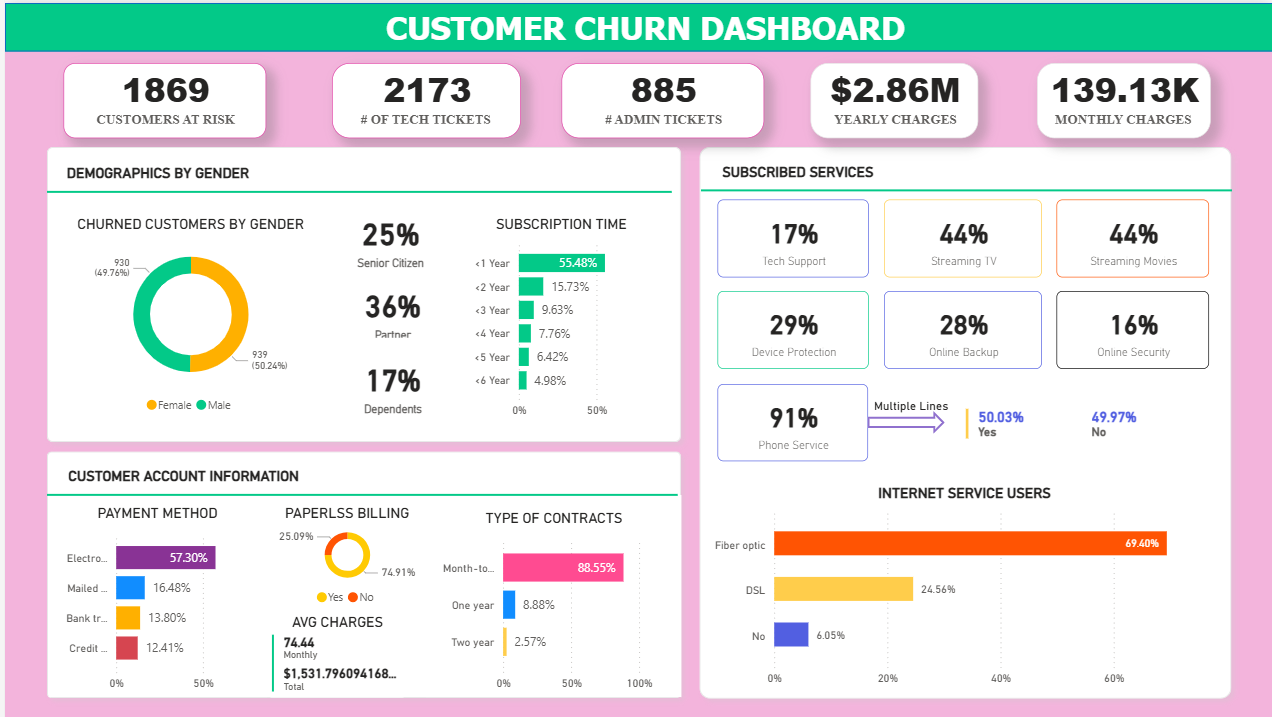

The dashboard page shown, as its layout file describes it:
{"tool":"powerbi","page":{"name":"Churn Dashboard","canvas":[1280,720],"ordinal":0},"visuals":[{"type":"shape","box":[0,0,1280,49],"z":0},{"type":"shape","box":[34,136,658,316],"z":0,"group":"g1"},{"type":"card","fields":{"Values":["Churn.% Tech Support"]},"box":[720,199,152.4,78.4],"z":0,"group":"g4"},{"type":"shape","box":[692,136,555,575],"z":1000},{"type":"card","fields":{"Values":["Churn.% Streaming TV"]},"box":[887.4,199,159.5,78.4],"z":1000,"group":"g4"},{"type":"donutChart","title":"CHURNED CUSTOMERS BY GENDER","fields":{"Category":["01 Churn-Dataset.gender"],"Y":["CountNonNull(01 Churn-Dataset.gender)"]},"box":[61.1,204.4,252.2,223.4],"z":1000,"group":"g1"},{"type":"shape","box":[702,123,536,133],"z":1500,"group":"g3"},{"type":"shape","box":[42,430,636.8,133],"z":1500,"group":"g2"},{"type":"textbox","box":[33.3,0,1226.5,48.5],"z":2000},{"type":"textbox","box":[703.8,145,522.6,38],"z":2000,"group":"g3"},{"type":"textbox","box":[42.7,146.1,630.9,47.3],"z":2000,"group":"g1"},{"type":"card","fields":{"Values":["Churn.% Streaming Movies"]},"box":[1062.8,199,154.2,78.4],"z":2000,"group":"g4"},{"type":"textbox","box":[44.2,452,636.8,38],"z":2000,"group":"g2"},{"type":"card","fields":{"Values":["Churn.% of Senior Citizen"]},"box":[330.5,204.4,118,77.5],"z":3000,"group":"g1"},{"type":"card","fields":{"Values":["Churn.% Device Protection"]},"box":[720,291.6,152.4,78.4],"z":3000,"group":"g4"},{"type":"shape","box":[34,444,658,267],"z":3000},{"type":"card","fields":{"Values":["CountNonNull(01 Churn-Dataset.customerID)"]},"box":[59.1,60.6,204.4,75.7],"z":4000},{"type":"card","fields":{"Values":["Churn.% of partner"]},"box":[329.5,278.9,125.5,74.5],"z":4000,"group":"g1"},{"type":"card","fields":{"Values":["Churn.% Online Backup"]},"box":[887.4,291.6,159.5,78.4],"z":4000,"group":"g4"},{"type":"shape","box":[42.7,151.1,630.9,78.5],"z":5000,"group":"g1"},{"type":"card","fields":{"Values":["Churn.% Online Sec"]},"box":[1062.8,291.6,154.2,78.4],"z":5000,"group":"g4"},{"type":"card","fields":{"Values":["Churn.% Phone Service"]},"box":[720,385,152,78],"z":5000},{"type":"card","fields":{"Values":["Sum(01 Churn-Dataset.numTechTickets)"]},"box":[330.1,60.6,190.8,75.7],"z":6000},{"type":"card","fields":{"Values":["Churn.% of Dependents"]},"box":[329.5,351.4,125.5,79.5],"z":6000,"group":"g1"},{"type":"clusteredBarChart","title":"SUBSCRIPTION TIME","fields":{"Y":["CountNonNull(Churn.Churn)"],"Category":["Churn.Tenure(in years)"]},"box":[466.9,204.4,190.5,220.4],"z":7000,"group":"g1"},{"type":"clusteredBarChart","title":"PAYMENT METHOD","fields":{"Y":["CountNonNull(Churn.PaymentMethod)"],"Category":["Churn.PaymentMethod"]},"box":[44,497,220,204],"z":7000},{"type":"card","fields":{"Values":["Sum(01 Churn-Dataset.TotalCharges)"]},"box":[813.1,60.6,169.6,75.7],"z":8000},{"type":"card","fields":{"Values":["Sum(01 Churn-Dataset.numAdminTickets)"]},"box":[561.8,60.6,204.4,75.7],"z":9000},{"type":"group","id":"g1","title":"Group 1","box":[34,136,658,316],"z":10000},{"type":"card","fields":{"Values":["Sum(01 Churn-Dataset.MonthlyCharges)"]},"box":[1041.8,60.6,175.6,75.7],"z":11000},{"type":"donutChart","title":"PAPERLSS BILLING","fields":{"Category":["Churn.PaperlessBilling"],"Y":["CountNonNull(Churn.PaperlessBilling)"]},"box":[248,497,194,126],"z":12000},{"type":"multiRowCard","title":"AVG CHARGES","fields":{"Values":["Avg(Churn.MonthlyCharges)","Avg(Churn.TotalCharges)"]},"box":[264,606,143,95],"z":13000},{"type":"clusteredBarChart","title":"TYPE OF CONTRACTS","fields":{"Category":["Churn.Contract"],"Y":["CountNonNull(Churn.Contract)"]},"box":[426,497,257,204],"z":14000},{"type":"group","id":"g2","title":"Group 2","box":[42,430,639,133],"z":15000},{"type":"group","id":"g3","title":"Group 2","box":[702,123,536,133],"z":16000},{"type":"group","id":"g4","title":"Group 3","box":[720,199,497,171],"z":17000},{"type":"shape","box":[871,412,78,23],"z":18000},{"type":"textbox","box":[872,391,300,30],"z":19000},{"type":"multiRowCard","fields":{"Values":["Churn.% Yes-Multiple Lines","Churn.% No-Multiple Lines"]},"box":[965,404,252,53],"z":20000},{"type":"barChart","title":"INTERNET SERVICE USERS","fields":{"Y":["CountNonNull(Churn.InternetService)"],"Category":["Churn.InternetService"]},"box":[710,471,517,230],"z":21000}]}

Visuals, with their boxes in screenshot pixels (x1, y1, x2, y2), scaled from the page's 1280x720 canvas onto the 1272x717 screenshot:
shape: 0,0,1271,49
shape: 34,135,688,450
card - Churn.% Tech Support: 716,198,867,276
shape: 688,135,1239,708
card - Churn.% Streaming TV: 882,198,1040,276
"CHURNED CUSTOMERS BY GENDER" donutChart: 61,204,311,426
shape: 698,122,1230,255
shape: 42,428,675,561
textbox: 33,0,1252,48
textbox: 699,144,1219,182
textbox: 42,145,669,193
card - Churn.% Streaming Movies: 1056,198,1209,276
textbox: 44,450,677,488
card - Churn.% of Senior Citizen: 328,204,446,281
card - Churn.% Device Protection: 716,290,867,368
shape: 34,442,688,708
card - CountNonNull(01 Churn-Dataset.customerID): 59,60,262,136
card - Churn.% of partner: 327,278,452,352
card - Churn.% Online Backup: 882,290,1040,368
shape: 42,150,669,229
card - Churn.% Online Sec: 1056,290,1209,368
card - Churn.% Phone Service: 716,383,867,461
card - Sum(01 Churn-Dataset.numTechTickets): 328,60,518,136
card - Churn.% of Dependents: 327,350,452,429
"SUBSCRIPTION TIME" clusteredBarChart: 464,204,653,423
"PAYMENT METHOD" clusteredBarChart: 44,495,262,698
card - Sum(01 Churn-Dataset.TotalCharges): 808,60,977,136
card - Sum(01 Churn-Dataset.numAdminTickets): 558,60,761,136
"Group 1" group: 34,135,688,450
card - Sum(01 Churn-Dataset.MonthlyCharges): 1035,60,1210,136
"PAPERLSS BILLING" donutChart: 246,495,439,620
"AVG CHARGES" multiRowCard: 262,603,404,698
"TYPE OF CONTRACTS" clusteredBarChart: 423,495,679,698
"Group 2" group: 42,428,677,561
"Group 2" group: 698,122,1230,255
"Group 3" group: 716,198,1209,368
shape: 866,410,943,433
textbox: 867,389,1165,419
multiRowCard - Churn.% Yes-Multiple Lines x Churn.% No-Multiple Lines: 959,402,1209,455
"INTERNET SERVICE USERS" barChart: 706,469,1219,698
